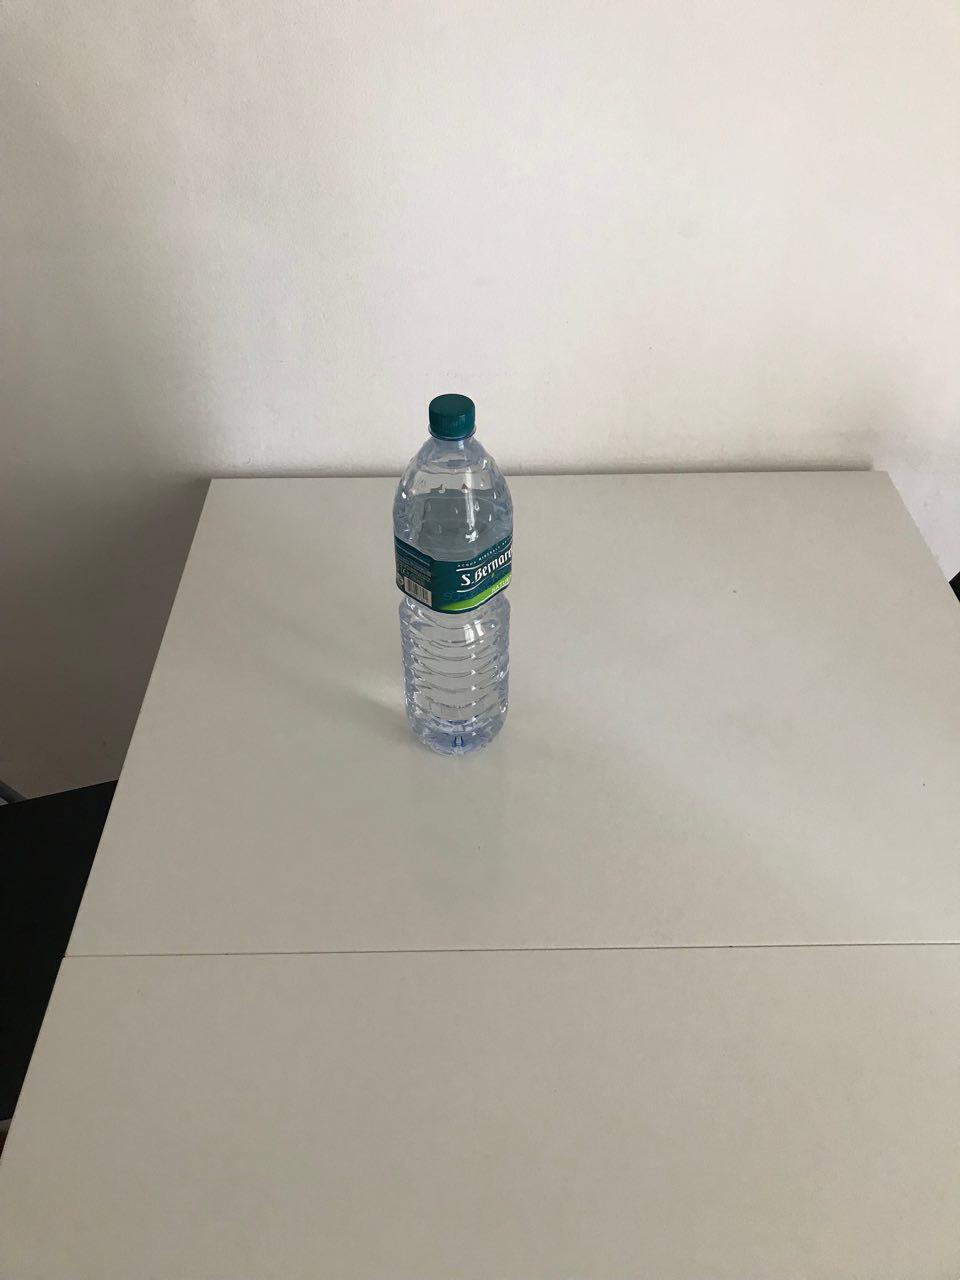san_bernardo: (391, 392, 517, 758)
